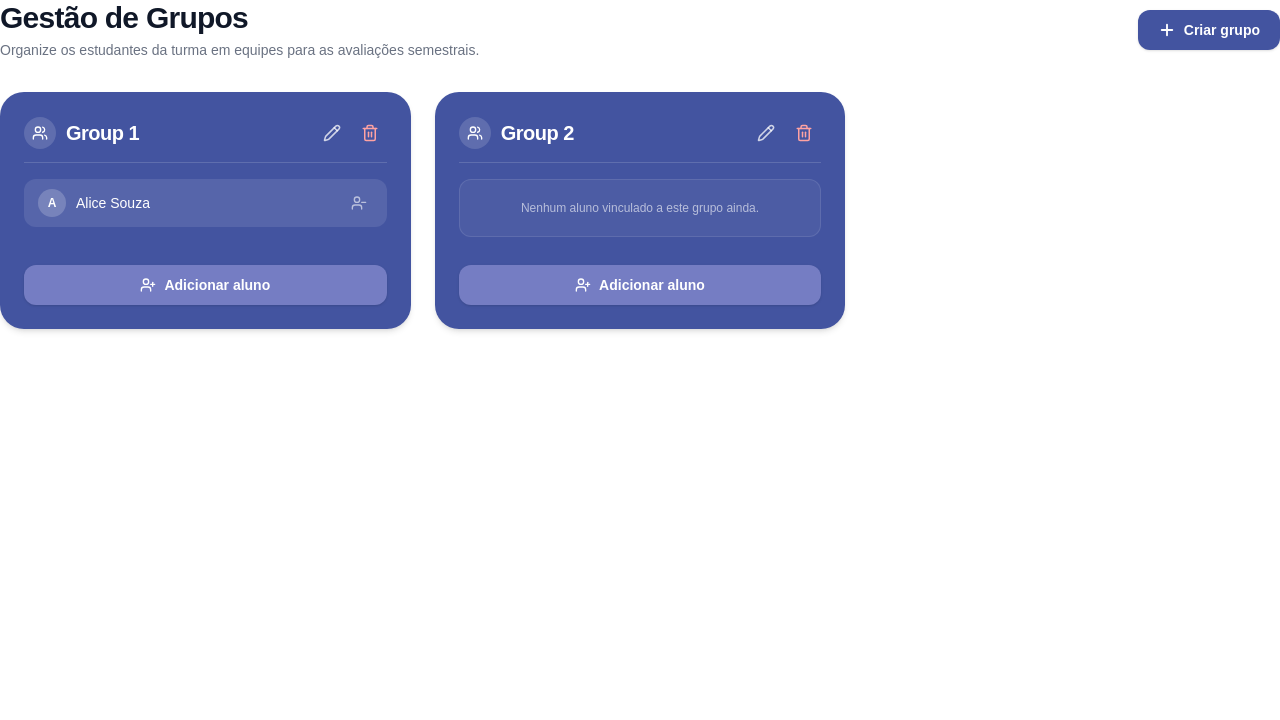
[US06] Tutor groups panel integration › should PUT the new name to the group's route and show it
Expected: the element "Group 1" is shown, [0, 92, 411, 329]
Click the button named "editar" in the row of "Group 1" at (332, 133), box [315, 116, 349, 150]
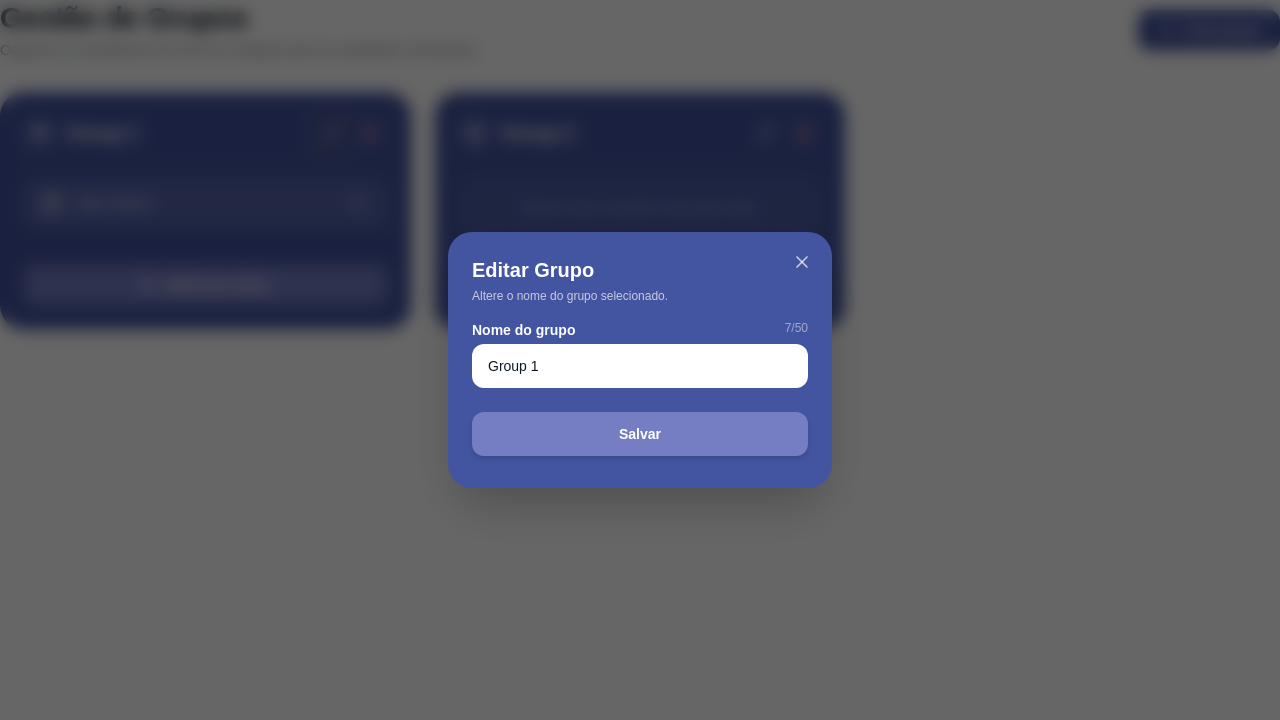
Replace the text in the field labelled "Nome do grupo" with "Updated Group" at (640, 366), box [472, 344, 808, 388]
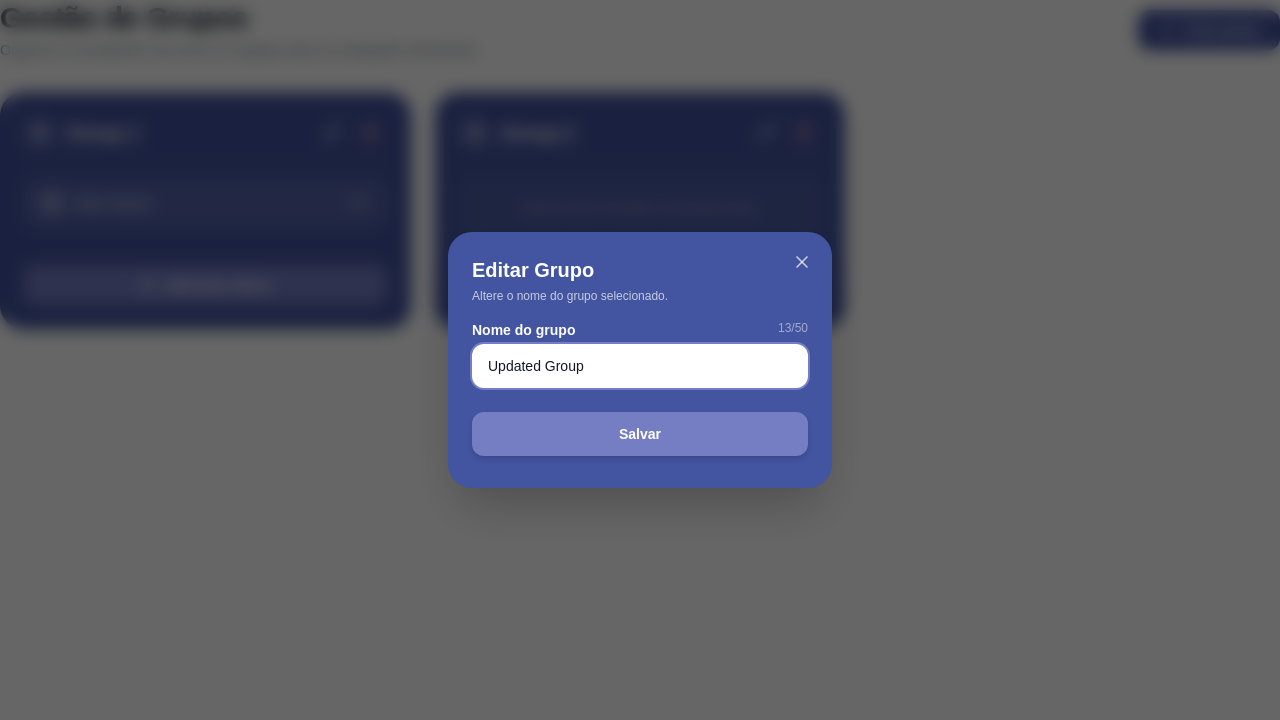
Click the button "Salvar" at (640, 434), box [472, 412, 808, 456]
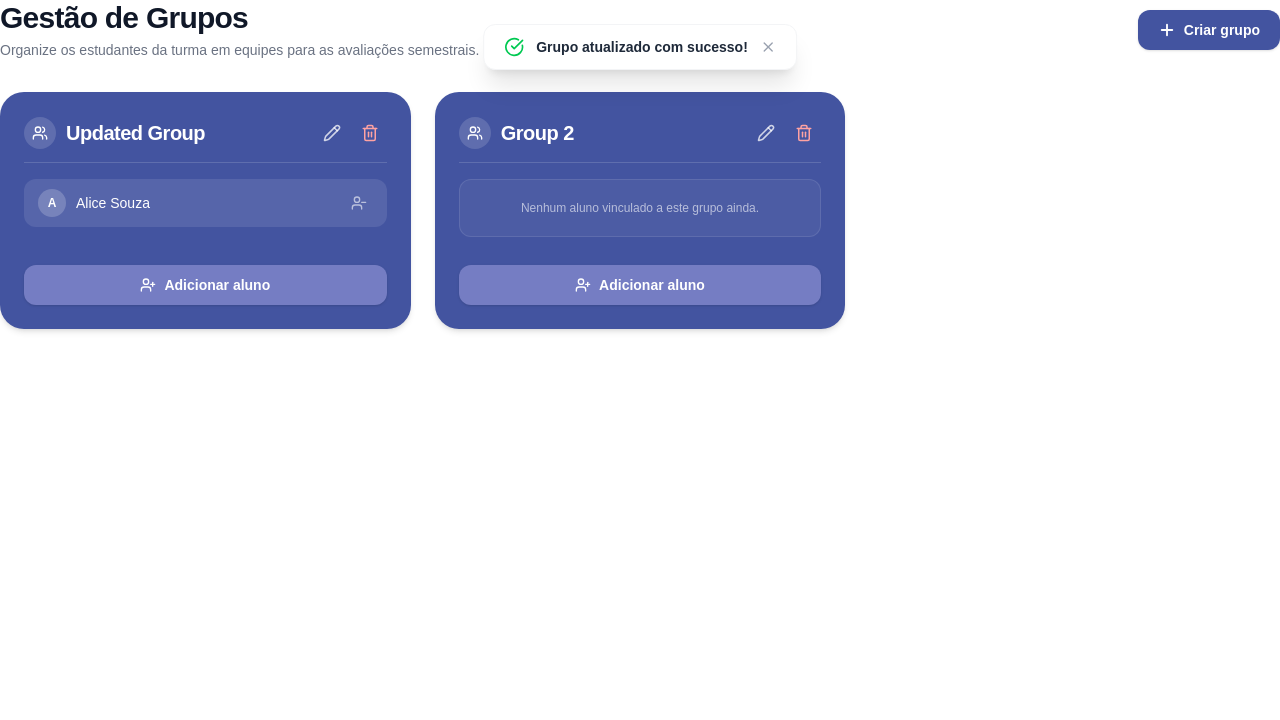
Now the element "Updated Group" is shown, box [0, 92, 411, 329]
